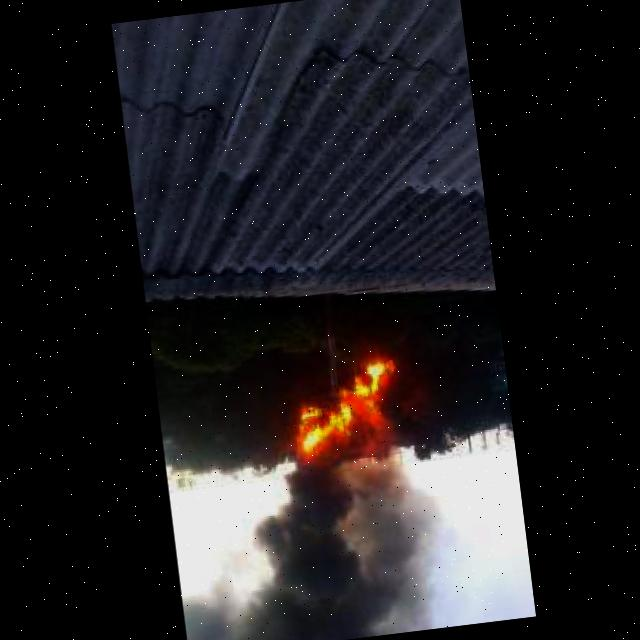fire: (230, 437, 444, 640), (294, 398, 354, 450), (336, 360, 393, 410)
